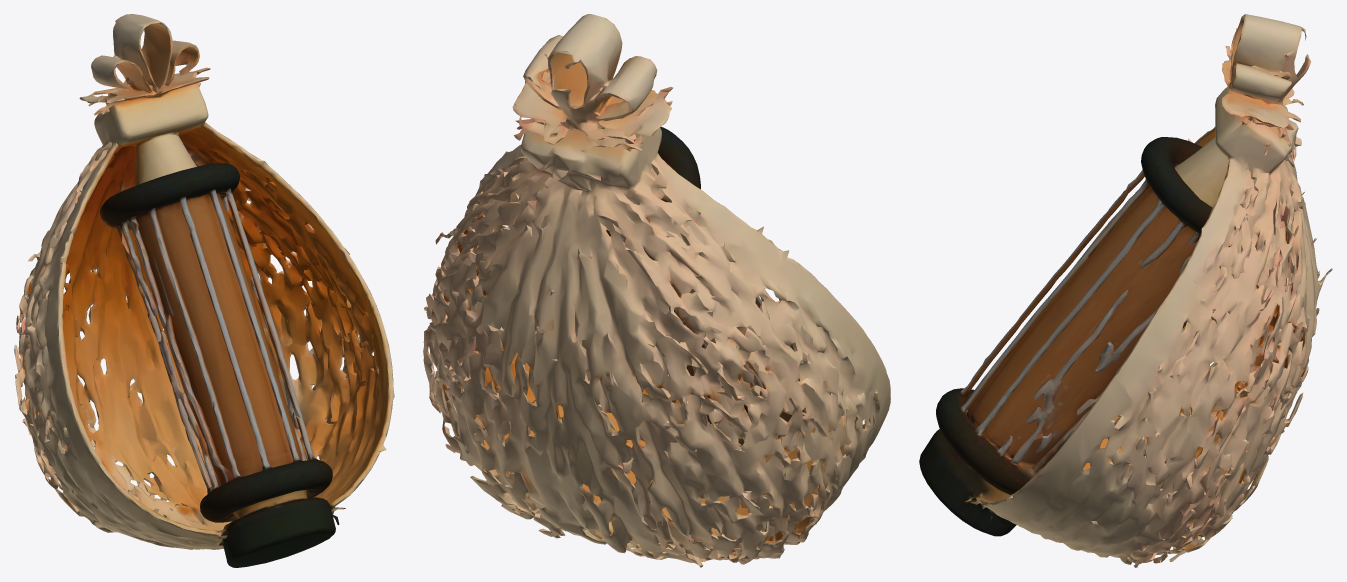
File: sasando.glb
3 views of the same model, side by side, from view 1: azimuth 30°, elevation 25°; view 2: azimuth 150°, elevation 25°; view 3: azimuth 270°, elevation 25° (orthographic). The views are drawn at different scales.
Visible parts, largest first — view 1: Object_2; view 2: Object_2; view 3: Object_2.
Part boxes in pixels (x1=…): Object_2: x1=14, y1=14, x2=394, y2=567; Object_2: x1=423, y1=14, x2=890, y2=567; Object_2: x1=919, y1=14, x2=1332, y2=567.
Size of the model in its own units: 0.7744 by 1.06 by 0.7672.
1 material, 1 textured.
